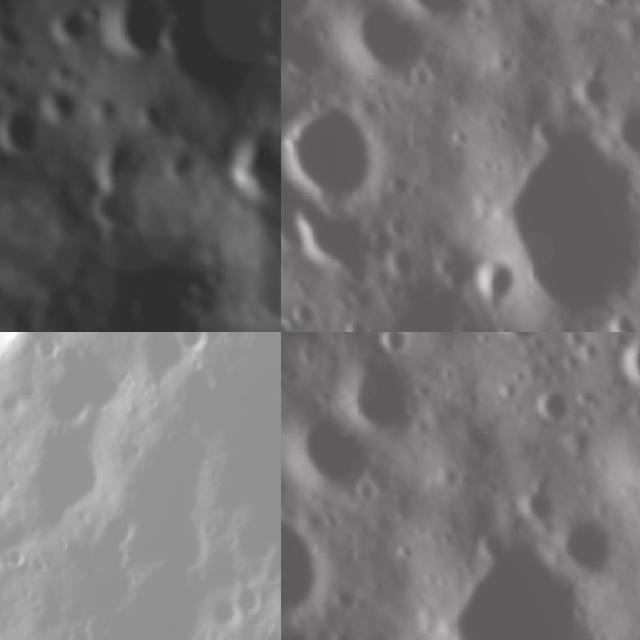crater: (455, 92, 640, 332), (400, 506, 640, 640), (281, 81, 397, 225), (319, 332, 438, 452), (281, 396, 383, 509), (283, 184, 392, 286), (329, 0, 438, 95), (28, 422, 125, 525), (32, 334, 141, 422), (281, 495, 342, 639), (544, 506, 628, 590), (458, 246, 535, 320), (226, 111, 281, 207), (129, 268, 209, 332), (106, 0, 175, 67), (374, 0, 492, 38), (87, 182, 151, 245), (599, 91, 640, 176), (81, 135, 146, 188), (523, 380, 579, 436), (562, 64, 617, 120), (507, 478, 562, 534), (605, 332, 640, 407), (399, 50, 448, 103), (344, 464, 393, 517), (281, 597, 337, 640), (46, 0, 94, 47), (364, 332, 424, 368), (0, 108, 47, 153), (281, 0, 333, 36), (596, 292, 640, 332), (484, 332, 549, 356), (230, 578, 271, 615), (288, 294, 326, 332), (173, 332, 213, 361), (578, 0, 633, 21), (341, 312, 380, 332), (426, 322, 500, 332), (0, 0, 26, 22), (0, 267, 11, 304)
